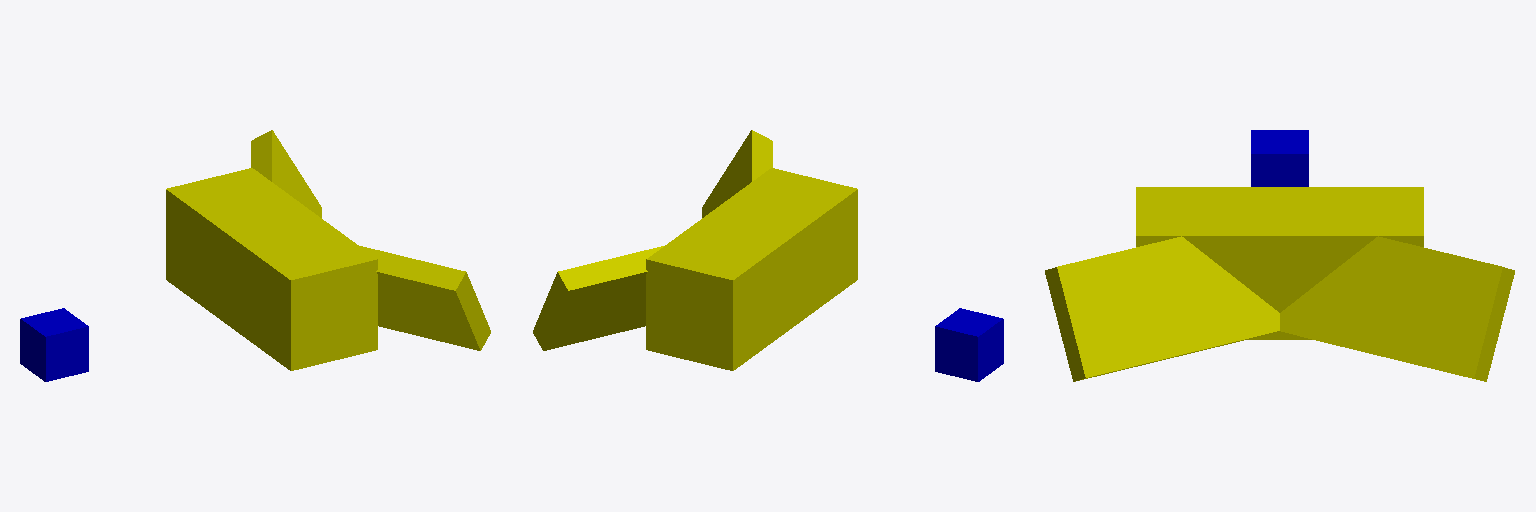
The robot description file, URDF, robot "shovel":
<?xml version="1.0"?>
<robot name="shovel">

  <!-- Materials -->  
  <material name="dark_grey"><color rgba="0.2 0.2 0.2 1.0" /></material>
  <material name="light_grey"><color rgba="0.4 0.4 0.4 1.0" /></material>
  <material name="yellow"><color rgba="0.8 0.8 0.0 1.0" /></material>
  <material name="black"><color rgba="0.15 0.15 0.15 1.0" /></material>
  <material name="blue"><color rgba="0 0 .8 1"/></material>

  <!-- base_link -->
  <link name="base_link">
    <visual>
      <origin xyz="0 0 0" rpy="0 0 0"/>
      <geometry>
        <box size="0.2 0.2 0.2"/>
      </geometry>      
      <material name="blue" />
    </visual>
    <collision>
      <geometry>
        <box size="0.2 0.2 0.2"/>
      </geometry>
    </collision>
    <inertial>
      <mass value="1e3"/>
      <inertia ixx="1.0" ixy="0.0" ixz="0.0" iyy="1.0" iyz="0.0" izz="1.0"/>
    </inertial>
  </link>

  <!-- from base to shovel -->
  <joint name="base_shovel_joint" type="prismatic">
    <axis xyz="1 0 0"/> 
    <origin xyz="1 0 0.1" rpy="0 0 0" />
    <parent link="base_link"/>
    <child link="shovel_link" />        
    <limit lower="-10" upper="10" effort="1000" velocity="0.5"/>
    <joint_properties damping="0.0" friction="0.0"/>
  </joint>

  <!-- shovel_link -->
  <link name="shovel_link">
    <visual>
      <origin xyz="0 0 0" rpy="0 0 0"/>
      <geometry>
        <box size="0.4 1 0.4"/>
      </geometry>
      <material name="yellow" />
    </visual>
    <collision>
      <origin xyz="0 0 0" rpy="0 0 0"/>
      <geometry>
        <box size="0.4 1 0.4"/>        
      </geometry>
    </collision>
    <inertial>      
      <origin xyz="0 0 0" rpy="0 0 0"/>
      <mass value="1e0"/>            
      <inertia ixx="1.0e-1" ixy="0.0" ixz="0.0" iyy="1.0e-1" iyz="0.0" izz="1.0e-1"/>
      </inertial>
  </link>

  <!-- from shovel to shovel left -->
  <joint name="shovel_left_joint" type="fixed">
    <origin xyz="0.3 0.4 0" rpy="0 -0.5235 -0.5235" />
    <parent link="shovel_link"/>
    <child link="shovel_left_link" />
  </joint>

  <!-- shovel_left_link -->
  <link name="shovel_left_link">
    <visual>
      <origin xyz="0 0 0" rpy="0 0 0"/>
      <geometry>
        <box size="0.1 0.8 0.4"/>
      </geometry>
      <material name="yellow" />
    </visual>
    <collision>
      <origin xyz="0 0 0" rpy="0 0 0"/>
      <geometry>
        <box size="0.1 0.8 0.4"/>        
      </geometry>
    </collision>
    <inertial>      
      <origin xyz="0 0 0" rpy="0 0 0"/>
      <mass value="1e-1"/>            
      <inertia ixx="1.0e-2" ixy="0.0" ixz="0.0" iyy="1.0e-2" iyz="0.0" izz="1.0e-2"/>
      </inertial>
  </link>

  <!-- from shovel to shovel right -->
  <joint name="shovel_right_joint" type="fixed">
    <origin xyz="0.3 -0.4 0" rpy="0 -0.5235 0.5235" />
    <parent link="shovel_link"/>
    <child link="shovel_right_link" />
  </joint>

  <!-- shovel_right_link -->
  <link name="shovel_right_link">
    <visual>
      <origin xyz="0 0 0" rpy="0 0 0"/>
      <geometry>
        <box size="0.1 0.8 0.4"/>
      </geometry>
      <material name="yellow" />
    </visual>
    <collision>
      <origin xyz="0 0 0" rpy="0 0 0"/>
      <geometry>
        <box size="0.1 0.8 0.4"/>        
      </geometry>
    </collision>
    <inertial>      
      <origin xyz="0 0 0" rpy="0 0 0"/>
      <mass value="1e-1"/>            
      <inertia ixx="1.0e-2" ixy="0.0" ixz="0.0" iyy="1.0e-2" iyz="0.0" izz="1.0e-2"/>
      </inertial>
  </link>
  
</robot>

--- Render facts (derived) ---
3 views of the same robot in one strip: view 1: azimuth 30°, elevation 25°; view 2: azimuth 150°, elevation 25°; view 3: azimuth 270°, elevation 25° (orthographic).
Model shovel with 4 links and 3 joints (1 prismatic, 2 fixed), rooted at base_link, posed every joint at zero.
Visible links, largest first — view 1: shovel_link, shovel_right_link, base_link, shovel_left_link; view 2: shovel_link, shovel_left_link, base_link, shovel_right_link; view 3: shovel_link, shovel_left_link, shovel_right_link, base_link.
Boxes of the visible links, box(x1,y1,x2,y2) form: shovel_link: box(166, 168, 377, 370); shovel_right_link: box(360, 246, 490, 350); base_link: box(20, 308, 88, 381); shovel_left_link: box(251, 130, 321, 217); shovel_link: box(646, 168, 857, 370); shovel_left_link: box(533, 246, 663, 350); base_link: box(935, 308, 1003, 381); shovel_right_link: box(702, 130, 772, 217); shovel_link: box(1136, 187, 1423, 339); shovel_left_link: box(1280, 236, 1514, 381); shovel_right_link: box(1045, 236, 1279, 381); base_link: box(1251, 130, 1308, 186).
Size in the robot's own frame: 1.72 by 1.64 by 0.4 metres.
Geometry: primitives only (box / cylinder / sphere), no mesh files.